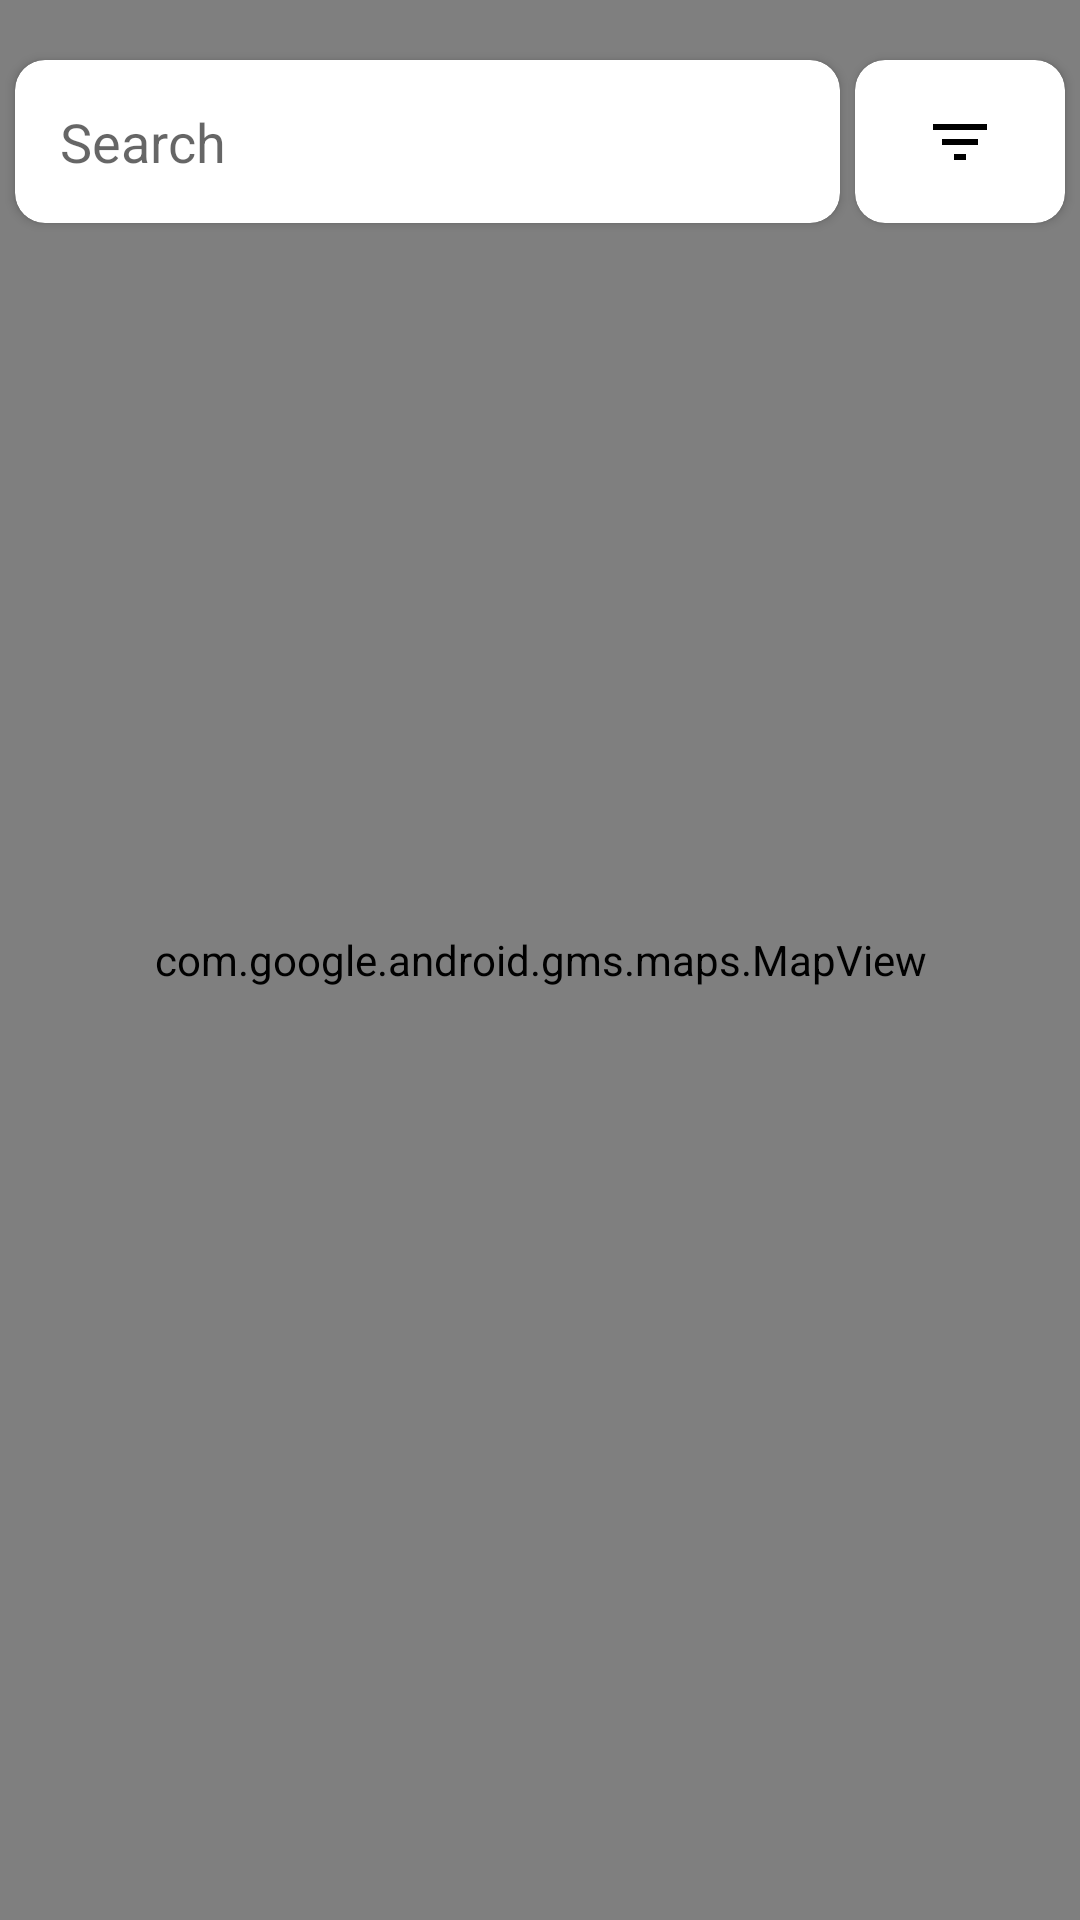

Point at icon controls on the screen. Image size 1080 x 1920, points as (x,y).
filter list: (960,141)
